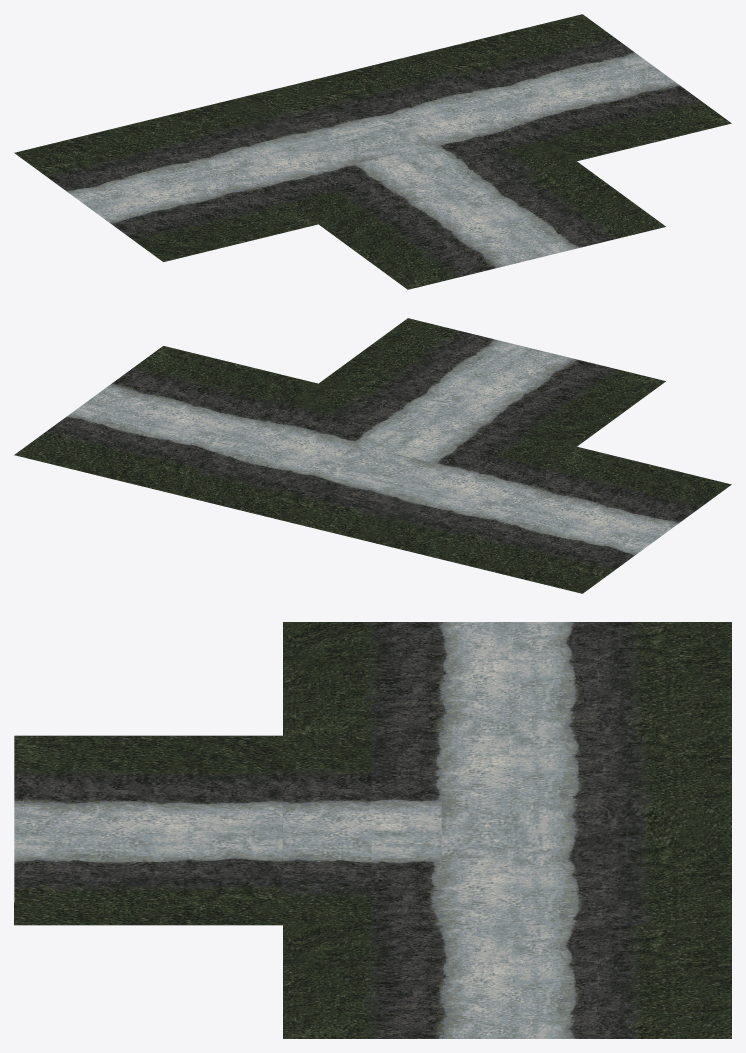
The model's file is SM_EC_Path_T_0.fbx.
The picture shows the model from 3 angles, top to bottom: view 1: azimuth 30°, elevation 25°; view 2: azimuth 150°, elevation 25°; view 3: azimuth 270°, elevation 25°; orthographic projection. The views are drawn at different scales.
Visible parts, largest first — view 1: SM_EC_Path_T_0; view 2: SM_EC_Path_T_0; view 3: SM_EC_Path_T_0.
Part boxes in pixels (x1,y1,x2,y2): SM_EC_Path_T_0: [14, 14, 731, 289]; SM_EC_Path_T_0: [14, 318, 731, 593]; SM_EC_Path_T_0: [14, 622, 731, 1038].
Size of the model in its own units: 13.2 by 9.61 by 0.
